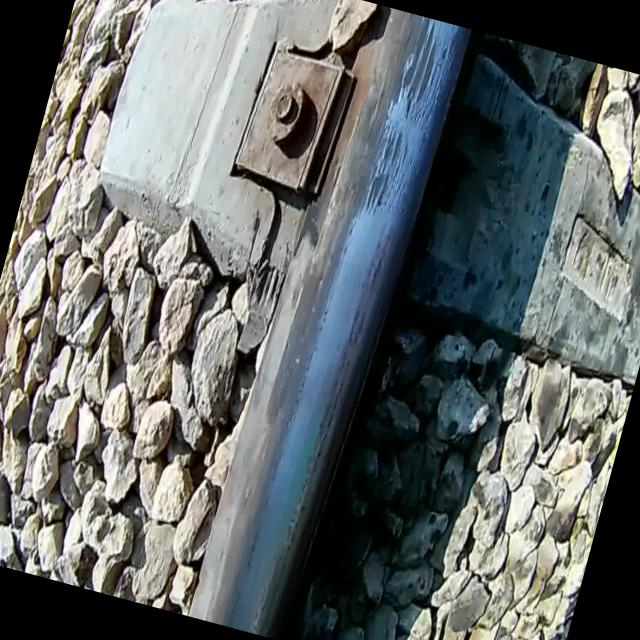Flakings: (248, 217, 404, 640)
Squats: (341, 8, 446, 224), (257, 257, 330, 438)
